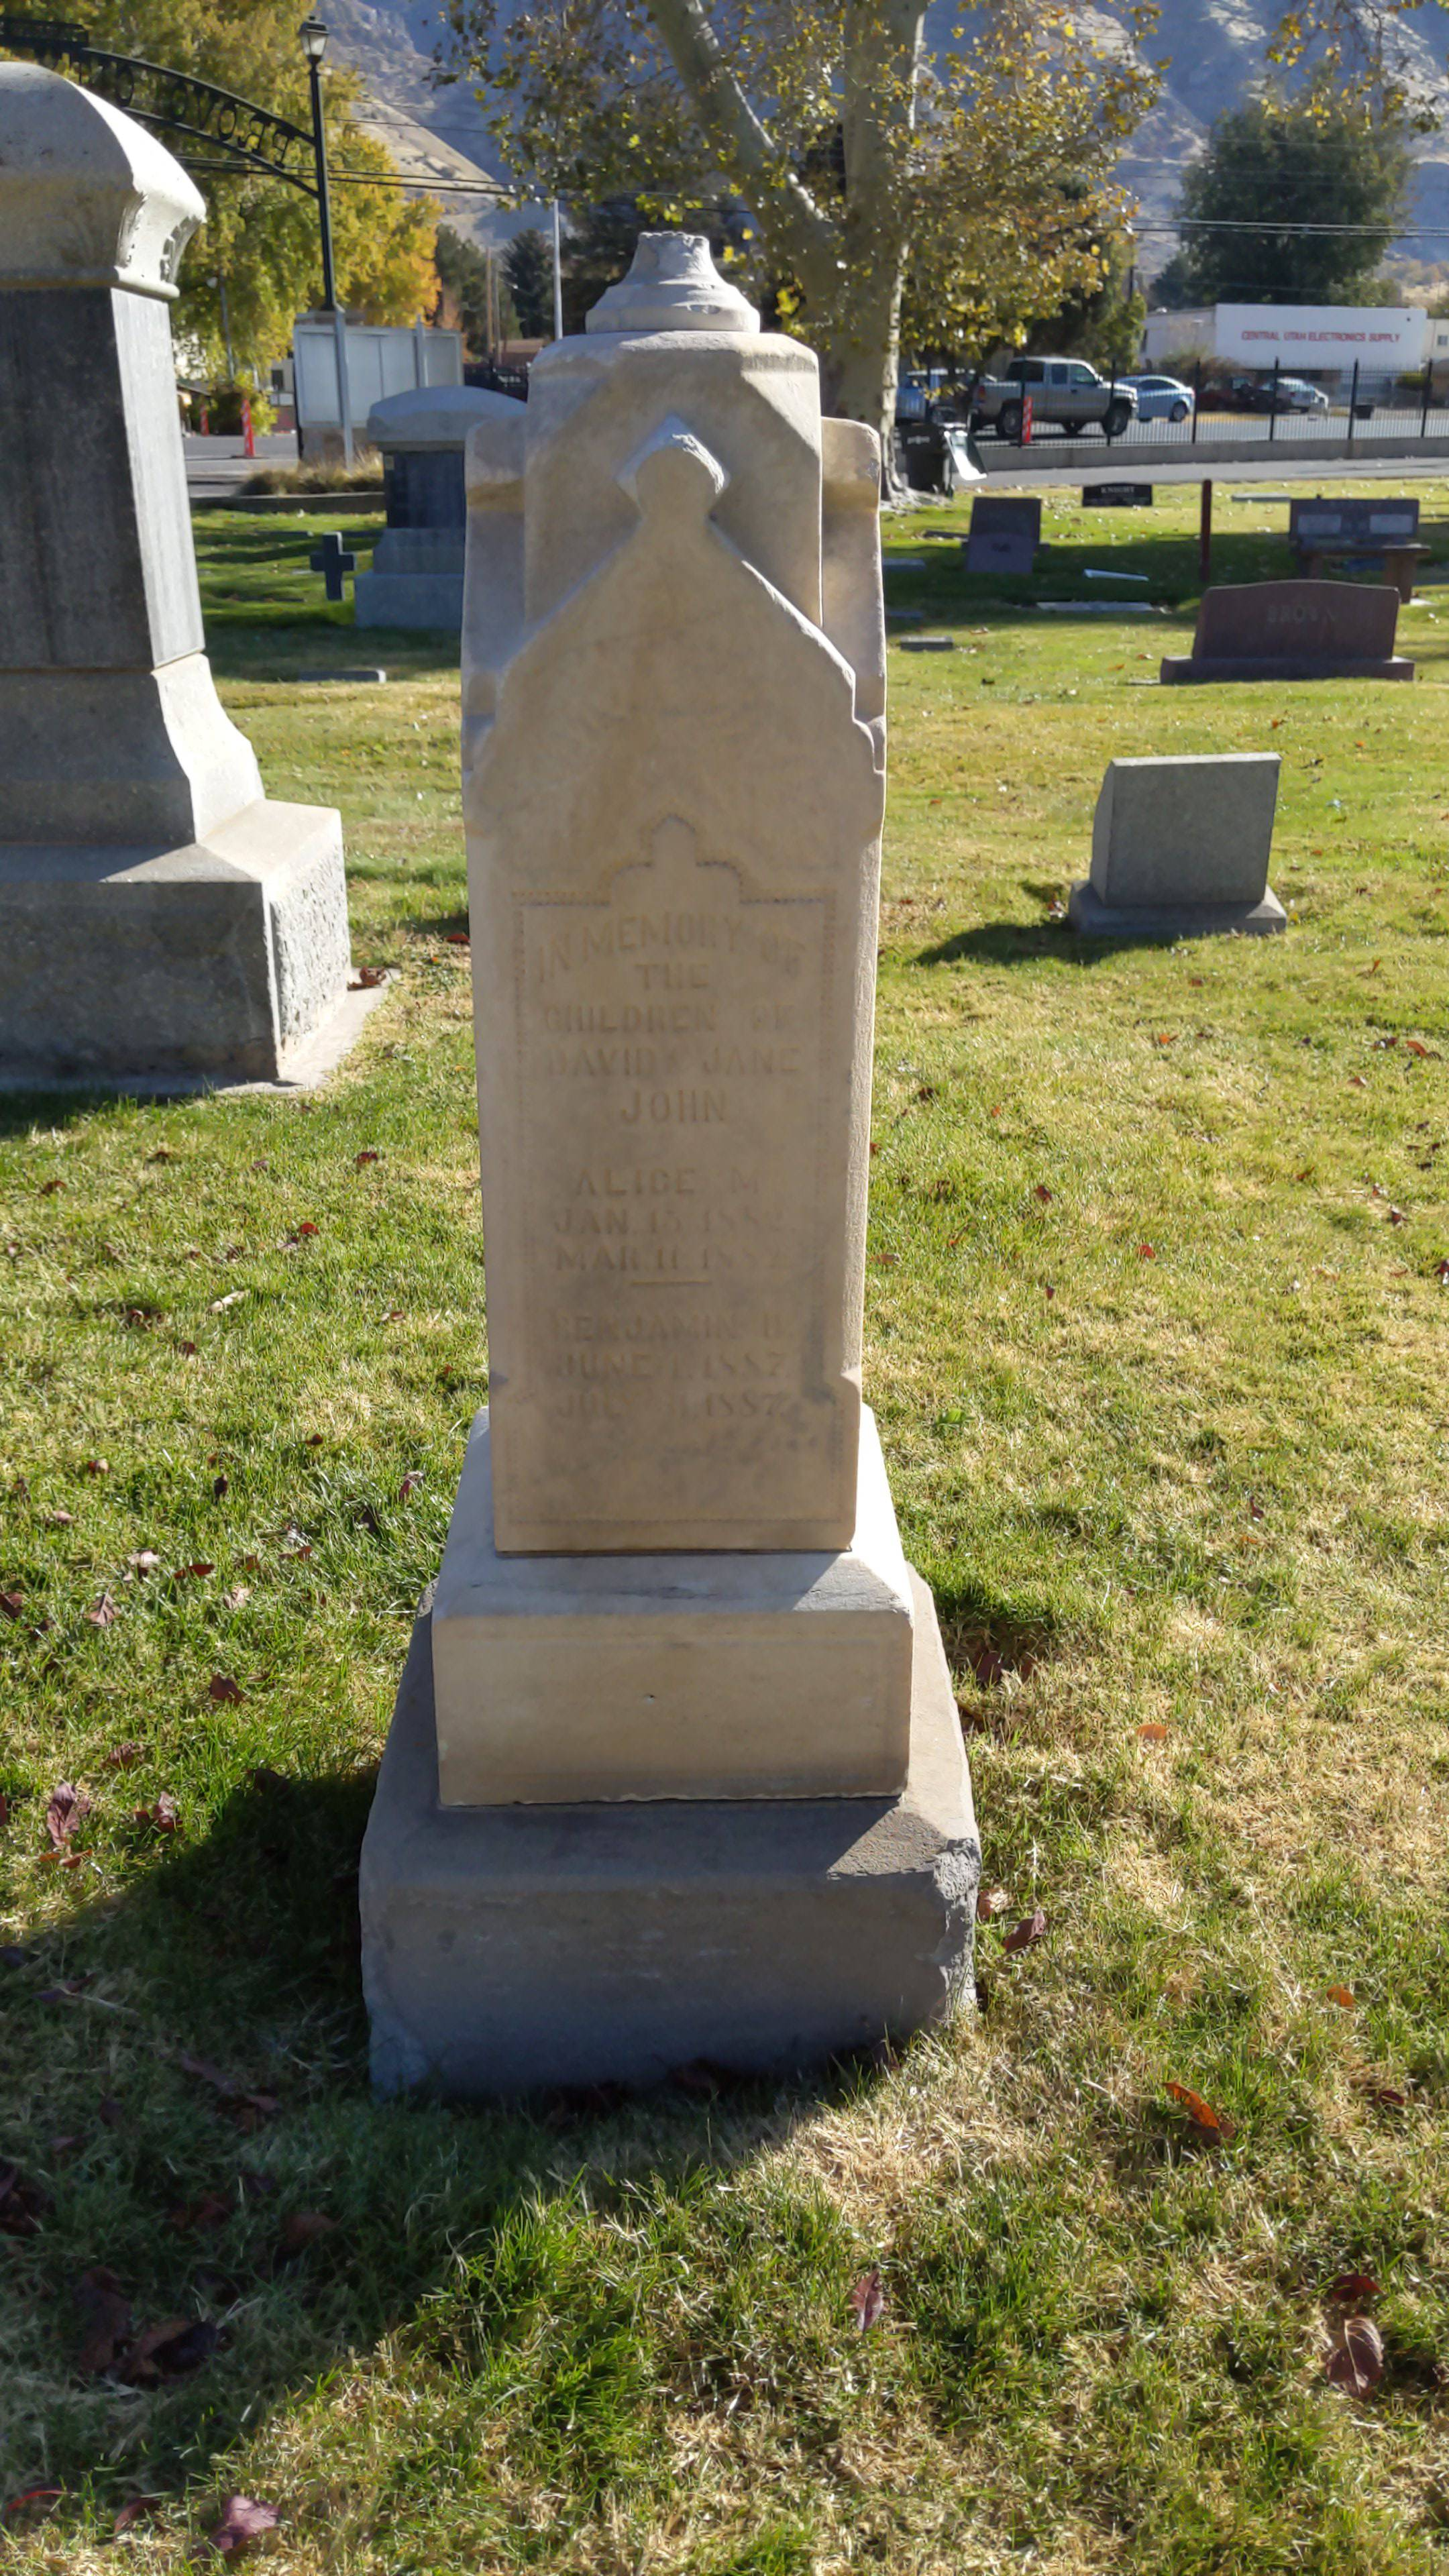obelisk: (428, 228, 916, 1808)
